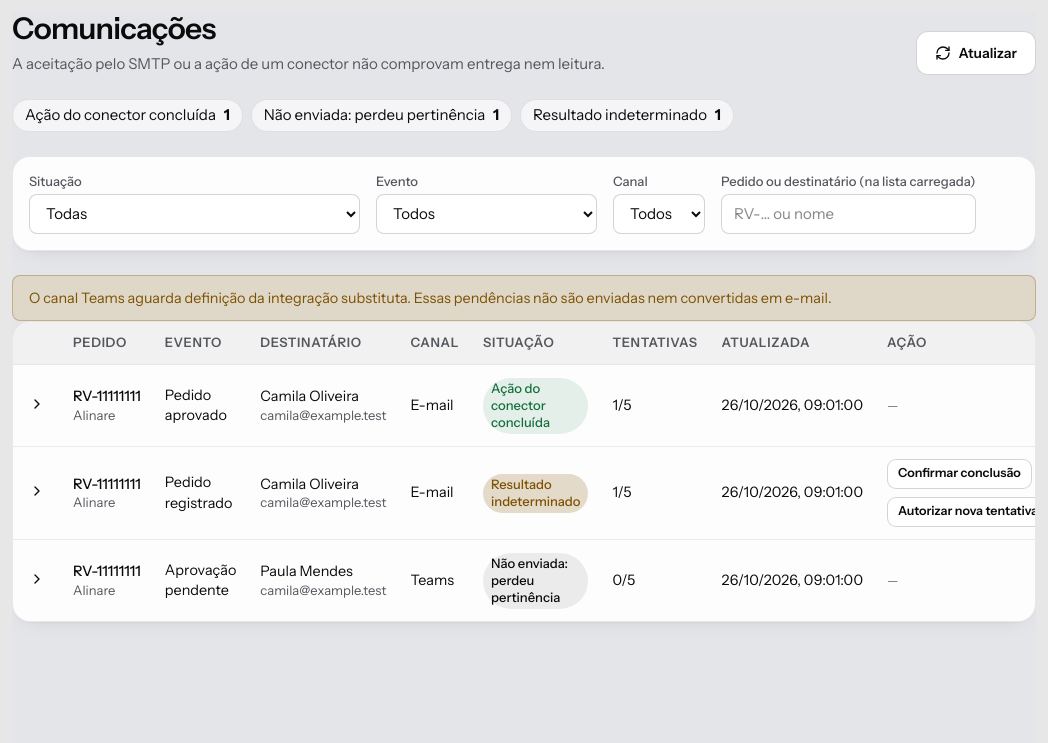
it: ComunicacoesPage › mostra correlação, datas, erro sanitizado e o histórico ao expandir
The width and height of the screenshot is (1048, 743).
What coordinates should you click on to do the following:
click the button named "Detalhes de RV-11111111"
I would click on:
 (37, 492)
Its box is [25, 480, 49, 504].
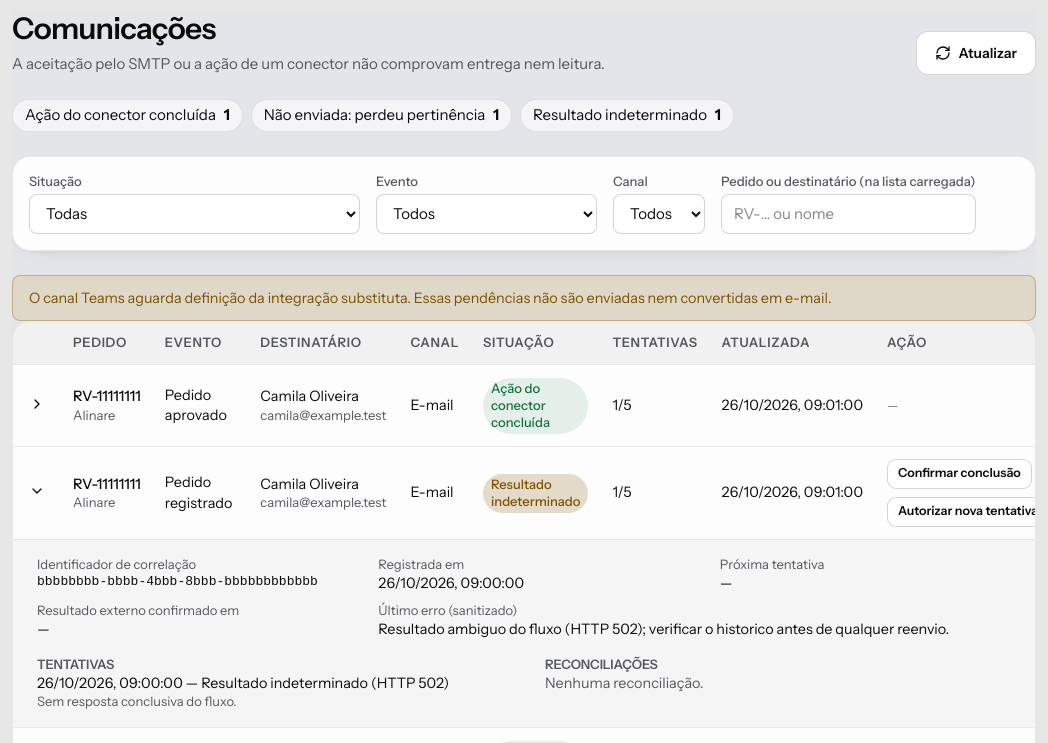
Now the text "bbbbbbbb-bbbb-4bbb-8bbb-bbbbbbbbbbbb" is shown, box [37, 573, 354, 590]
Now the text "Identificador de correlação" is shown, box [37, 556, 196, 572]
Now the text "Resultado ambiguo do fluxo (HTTP 502)" is shown, box [378, 620, 949, 638]
